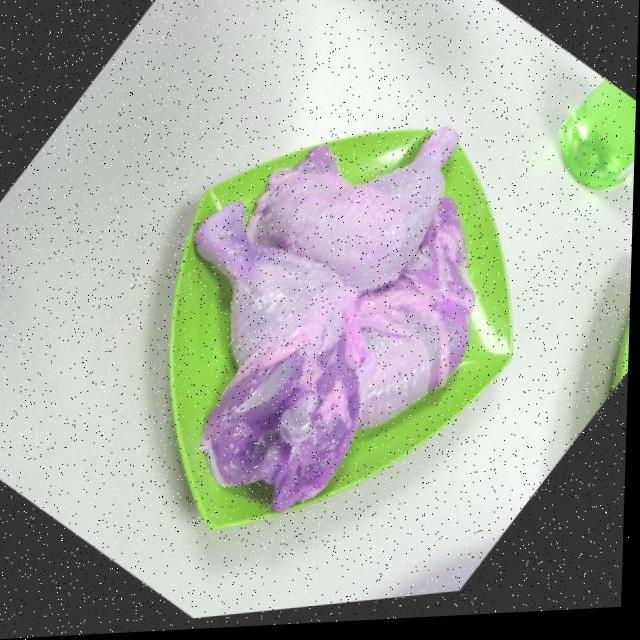quater: (185, 202, 351, 468), (279, 209, 476, 427), (242, 129, 456, 297)
